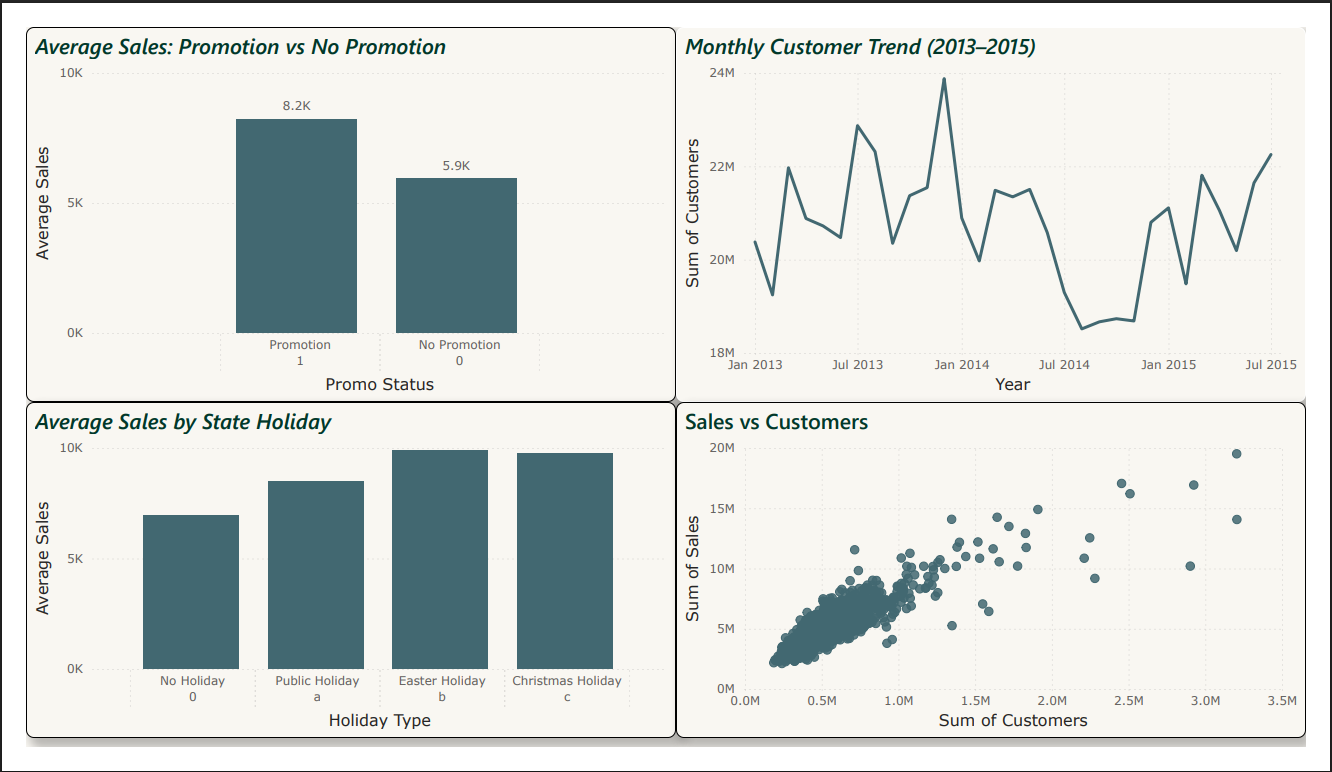

What the dashboard file says about the page in this screenshot:
{"tool":"powerbi","page":{"name":"Customer & Promotion Analysis","canvas":[1280,720],"ordinal":2},"visuals":[{"type":"clusteredColumnChart","title":"Average Sales: Promotion vs No Promotion","fields":{"Category":["rossmann_powerbi.Promo","rossmann_powerbi.Promo Status"],"Y":["rossmann_powerbi.Average Sales"]},"box":[0,0,650.4,375.2],"z":0},{"type":"clusteredColumnChart","title":"Average Sales by State Holiday","fields":{"Category":["rossmann_powerbi.StateHoliday","rossmann_powerbi.Holiday Type"],"Y":["rossmann_powerbi.Average Sales"]},"box":[0,375.2,650.4,335.5],"z":1000},{"type":"lineChart","title":"Monthly Customer Trend (2013–2015)","fields":{"Y":["Sum(rossmann_powerbi.Customers)"],"Category":["rossmann_powerbi.Date.Variation.Date Hierarchy.Year","rossmann_powerbi.Date.Variation.Date Hierarchy.Month"]},"box":[650.4,0,629.6,375.2],"z":2000},{"type":"scatterChart","title":"Sales vs Customers","fields":{"X":["Sum(rossmann_powerbi.Customers)"],"Y":["Sum(rossmann_powerbi.Sales)"],"Category":["rossmann_powerbi.Store"]},"box":[650.4,375.2,629.6,335.5],"z":3000}]}

Visuals, with their boxes in screenshot pixels (x1, y1, x2, y2), scaled from the page's 1280x720 canvas onto the 1332x772 screenshot:
"Average Sales: Promotion vs No Promotion" clusteredColumnChart: rect(0, 0, 677, 402)
"Average Sales by State Holiday" clusteredColumnChart: rect(0, 402, 677, 762)
"Monthly Customer Trend (2013–2015)" lineChart: rect(677, 0, 1331, 402)
"Sales vs Customers" scatterChart: rect(677, 402, 1331, 762)
